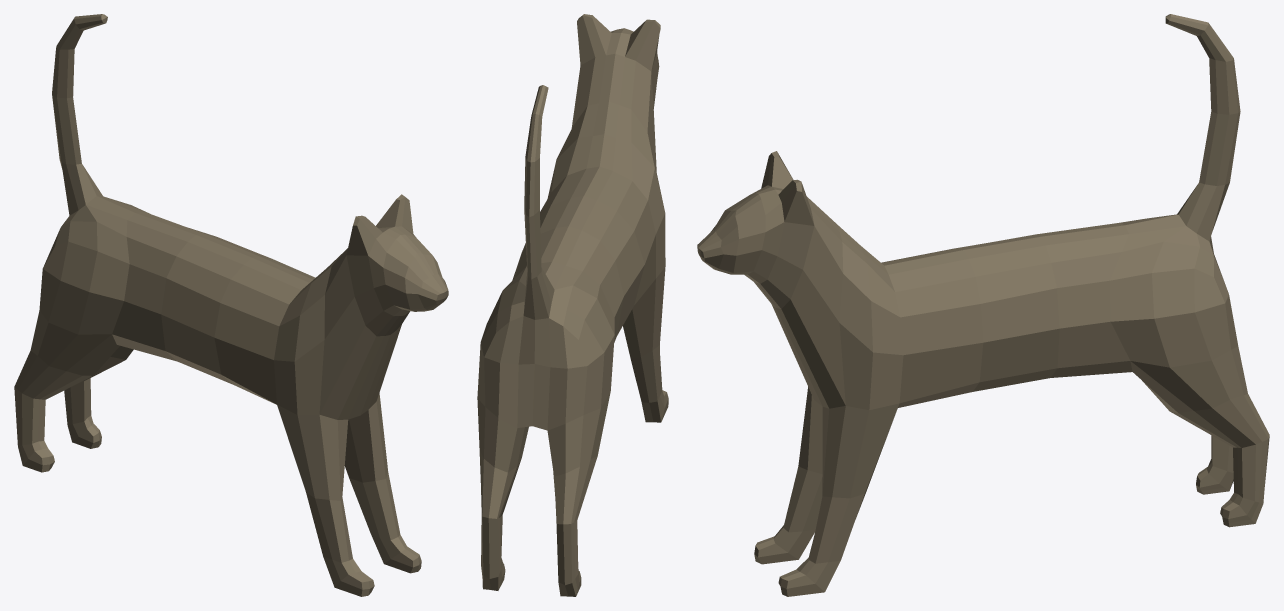
The model's file is cat_final_plane.glb.
3 views of the same model, side by side, from view 1: azimuth 30°, elevation 25°; view 2: azimuth 150°, elevation 25°; view 3: azimuth 270°, elevation 25° (orthographic). The views are drawn at different scales.
Visible parts, largest first — view 1: cat_final_plane; view 2: cat_final_plane; view 3: cat_final_plane.
Boxes of the visible parts, <box> form: cat_final_plane: <box>14,14,448,596</box>; cat_final_plane: <box>477,14,668,596</box>; cat_final_plane: <box>697,14,1269,596</box>.
Size of the model in its own units: 0.3765 by 0.8261 by 0.8452.
